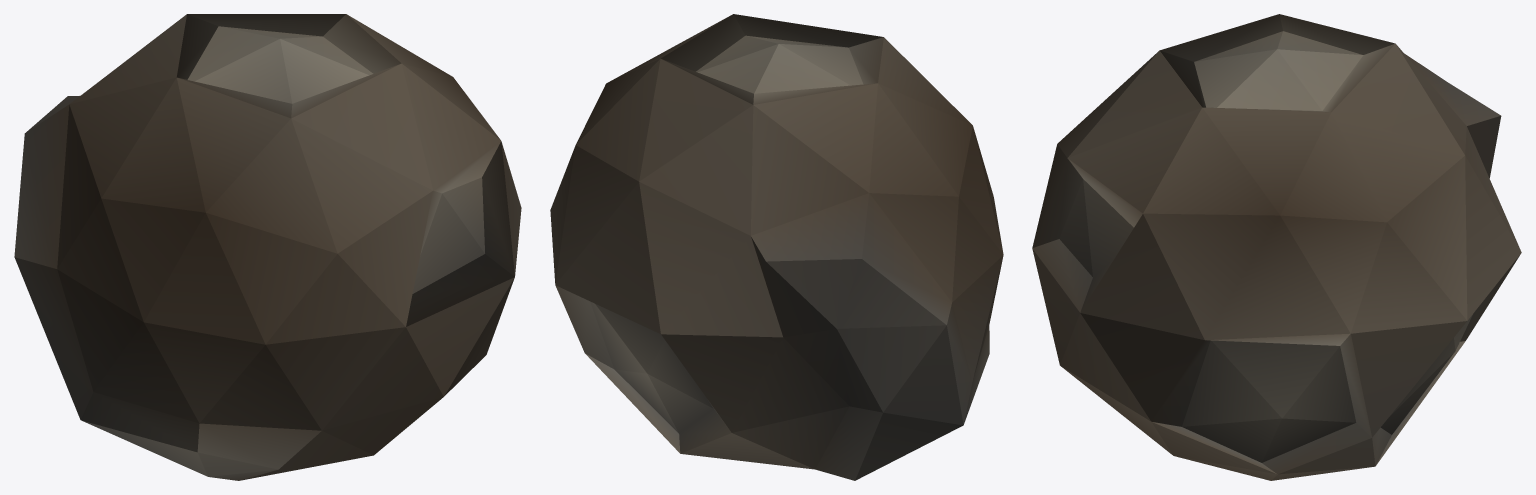
Rendered from PlanetExtensions_Moon03.fbx.
3 views of the same model, side by side, from view 1: azimuth 30°, elevation 25°; view 2: azimuth 150°, elevation 25°; view 3: azimuth 270°, elevation 25° (orthographic). The views are drawn at different scales.
Parts seen in each view (by area): view 1: Moon03; view 2: Moon03; view 3: Moon03.
Boxes of the visible parts, box(x1,y1,x2,y2) form: Moon03: box(14, 14, 521, 480); Moon03: box(550, 14, 1003, 480); Moon03: box(1032, 14, 1521, 480).
Bounding box in the file's own units: 9.38 × 9.05 × 9.43.
